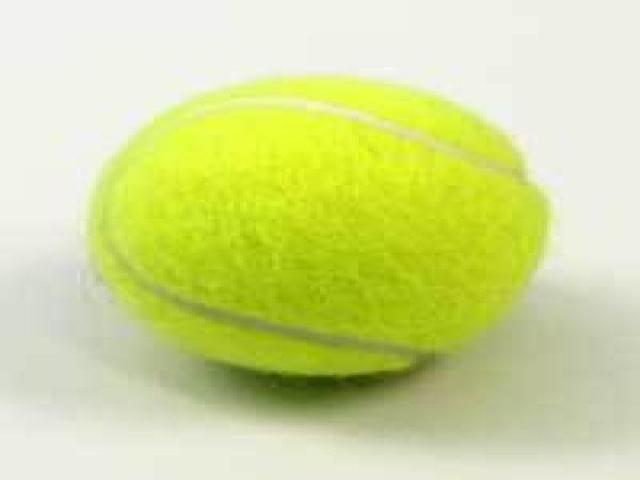tennis-ball: (84, 71, 554, 382)
